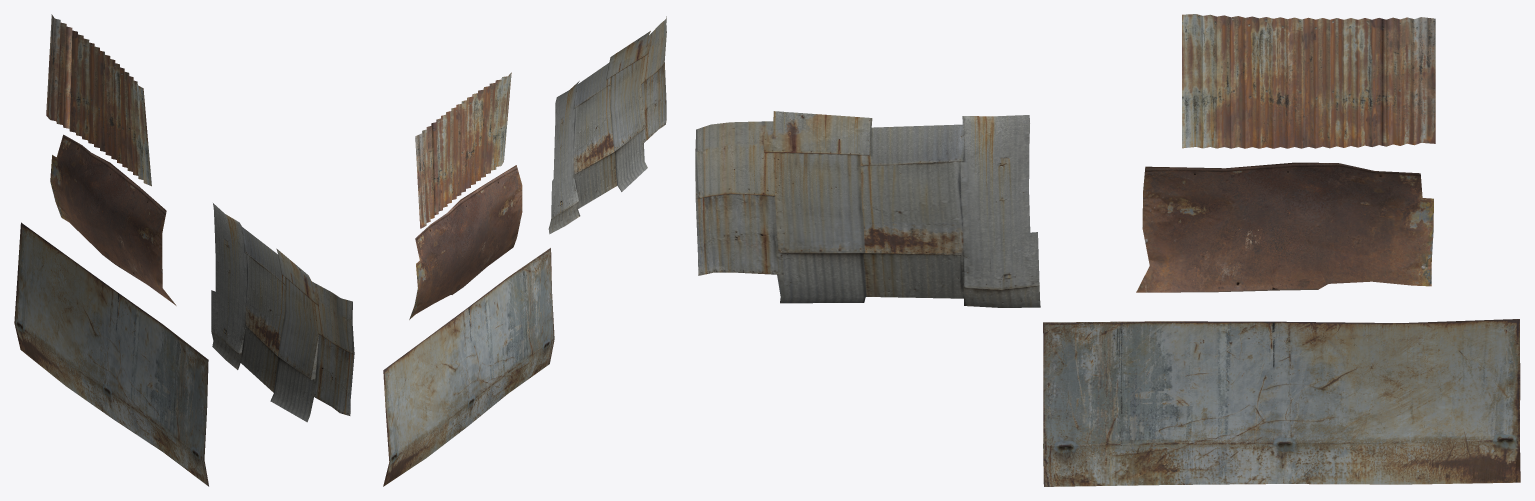
Rendered from Old_metal_fences_v1.FBX.
3 renders of one model, left to right at view 1: azimuth 30°, elevation 25°; view 2: azimuth 150°, elevation 25°; view 3: azimuth 270°, elevation 25°, orthographic. The views are drawn at different scales.
Visible parts, largest first — view 1: Old_metal_fence_v1_2, Old_metal_fence_v1_1, Old_metal_fence_v1_3, Old_metal_fence_v1_4; view 2: Old_metal_fence_v1_2, Old_metal_fence_v1_1, Old_metal_fence_v1_3, Old_metal_fence_v1_4; view 3: Old_metal_fence_v1_2, Old_metal_fence_v1_1, Old_metal_fence_v1_3, Old_metal_fence_v1_4.
Boxes of the visible parts, x1=… form: Old_metal_fence_v1_2: x1=14, y1=222, x2=208, y2=486; Old_metal_fence_v1_1: x1=211, y1=203, x2=354, y2=422; Old_metal_fence_v1_3: x1=50, y1=134, x2=176, y2=305; Old_metal_fence_v1_4: x1=46, y1=14, x2=151, y2=186; Old_metal_fence_v1_2: x1=383, y1=248, x2=554, y2=486; Old_metal_fence_v1_1: x1=548, y1=16, x2=666, y2=234; Old_metal_fence_v1_3: x1=409, y1=165, x2=522, y2=319; Old_metal_fence_v1_4: x1=415, y1=72, x2=511, y2=228; Old_metal_fence_v1_2: x1=1043, y1=319, x2=1520, y2=486; Old_metal_fence_v1_1: x1=695, y1=111, x2=1040, y2=307; Old_metal_fence_v1_3: x1=1136, y1=162, x2=1433, y2=292; Old_metal_fence_v1_4: x1=1182, y1=14, x2=1435, y2=148.
Size of the model in its own units: 0.4613 by 6.99 by 11.23.
